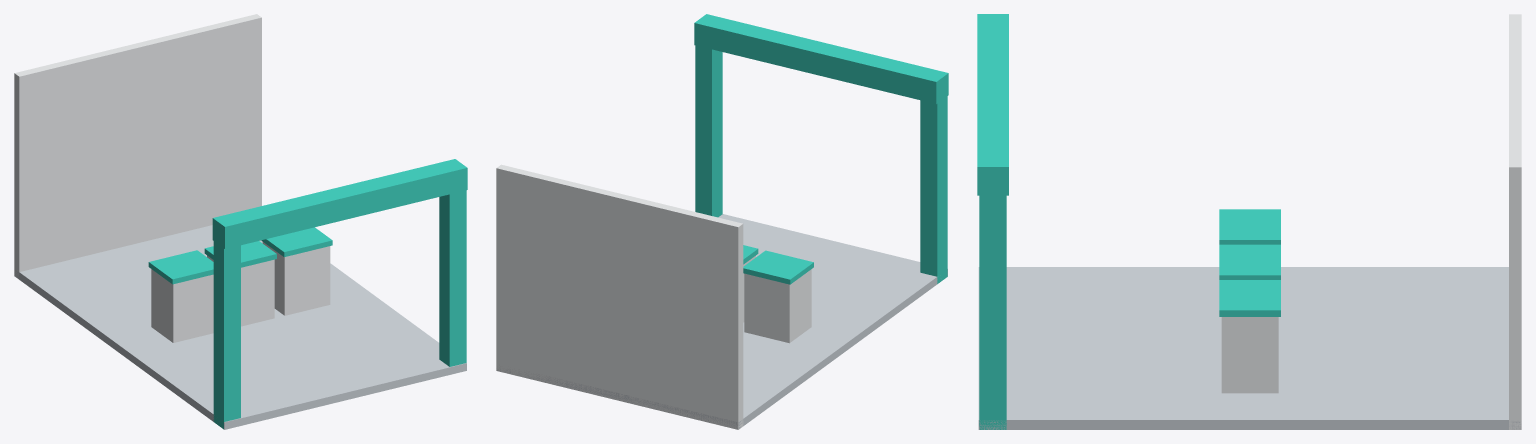
The picture shows the model from 3 angles, left to right: view 1: azimuth 30°, elevation 25°; view 2: azimuth 150°, elevation 25°; view 3: azimuth 270°, elevation 25°; orthographic projection. The views are drawn at different scales.
Visible parts, largest first — view 1: Exhibition Booth Concept; view 2: Exhibition Booth Concept; view 3: Exhibition Booth Concept.
Part boxes in pixels (left/top/right/bottom): Exhibition Booth Concept: left=14, top=14, right=467, bottom=429; Exhibition Booth Concept: left=496, top=14, right=948, bottom=429; Exhibition Booth Concept: left=977, top=14, right=1521, bottom=429.
Size of the model in its own units: 4 by 3.2 by 6.02.
